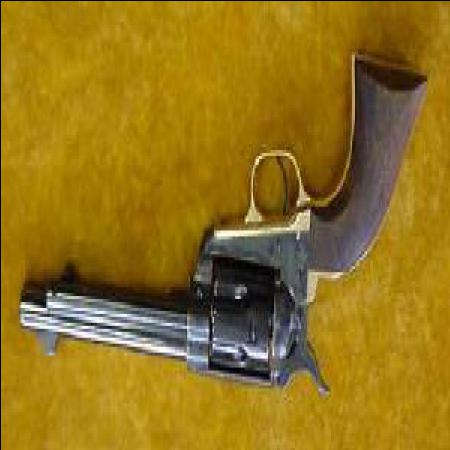Pistol: (15, 60, 432, 406)
